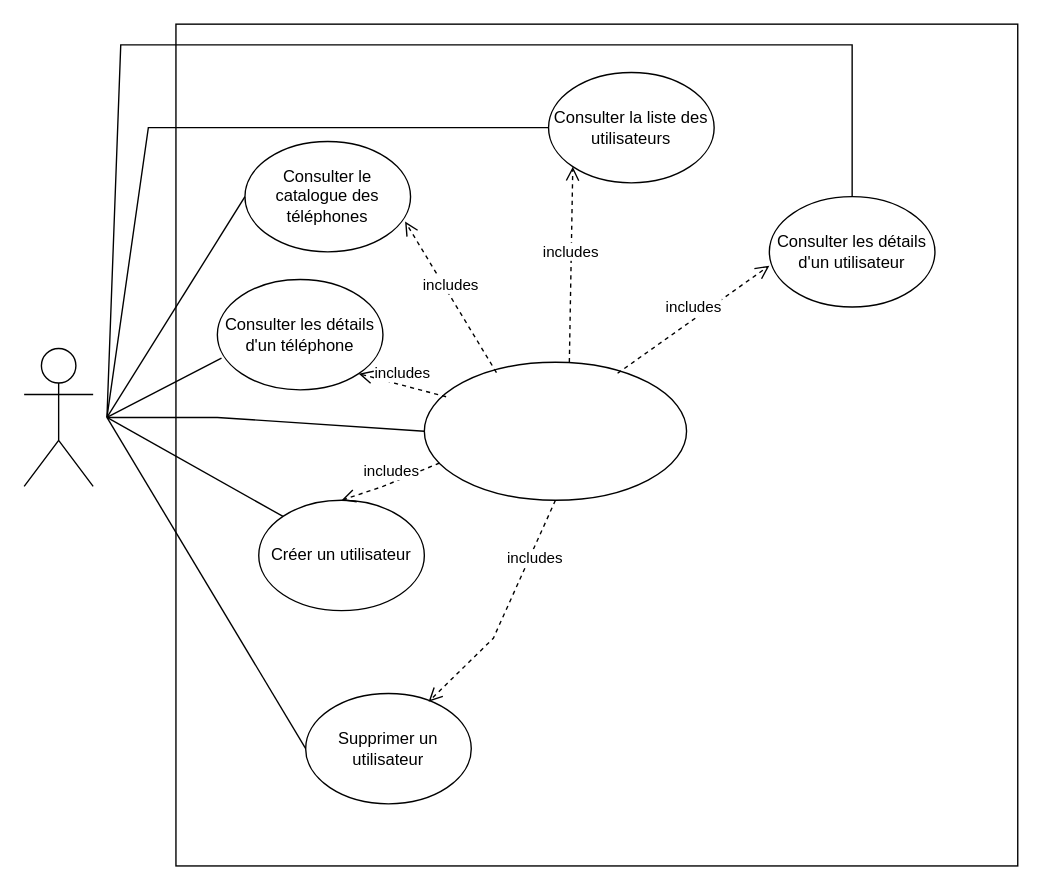
Image size: 1042x890. Some labels were removed from this diagram. Each missing label, with the centre of its shape:
Authentification via JWT Token: the point at 555,430
Client: the point at 58,416
